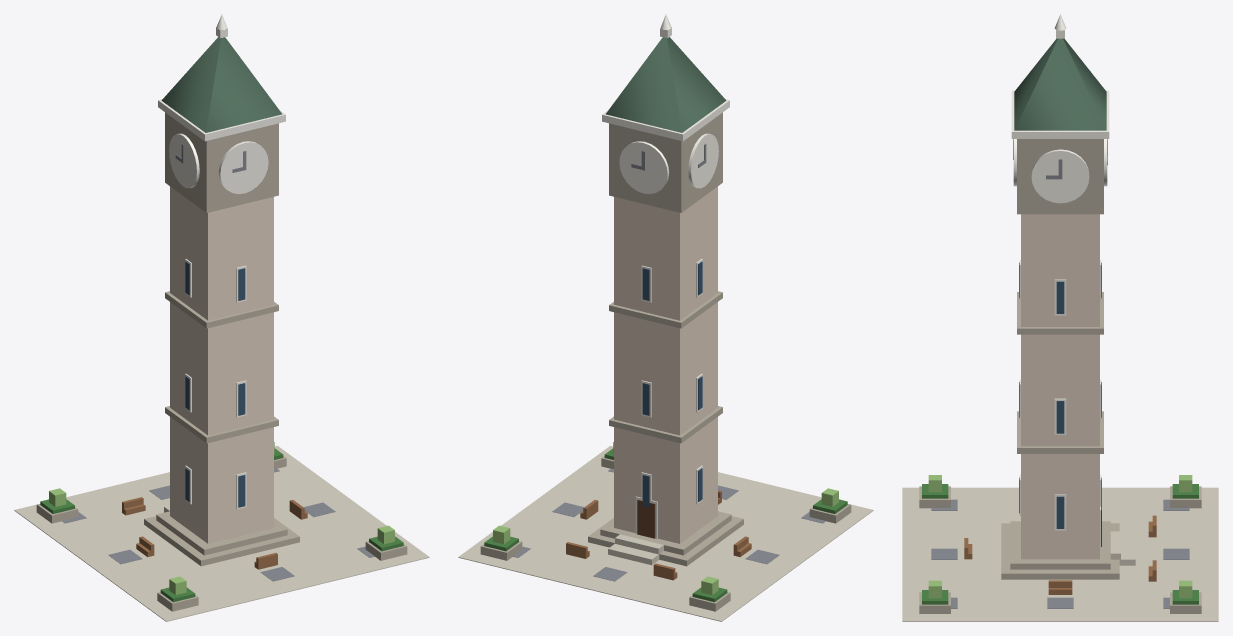
The model's file is clocktower.glb.
3 renders of one model, left to right at view 1: azimuth 30°, elevation 25°; view 2: azimuth 150°, elevation 25°; view 3: azimuth 270°, elevation 25°, orthographic. The views are drawn at different scales.
Visible parts, largest first — view 1: tower, plaza, spire, clock_stage, plinth (×2), clock_face (×2), string_course (×2), cornice; view 2: tower, plaza, spire, clock_stage, clock_face (×2), plinth (×2), string_course (×2), cornice, door, step; view 3: plaza, tower, spire, clock_stage, plinth (×2), clock_face, string_course (×2), cornice, step.
Part boxes in pixels (x1=…): tower: x1=170, y1=186, x2=273, y2=543; plaza: x1=14, y1=446, x2=429, y2=621; spire: x1=161, y1=37, x2=281, y2=132; clock_stage: x1=165, y1=112, x2=278, y2=212; plinth (×2): x1=144, y1=511, x2=299, y2=566; clock_face (×2): x1=169, y1=133, x2=268, y2=194; string_course (×2): x1=165, y1=291, x2=278, y2=443; cornice: x1=158, y1=99, x2=285, y2=141; tower: x1=614, y1=186, x2=717, y2=543; plaza: x1=458, y1=446, x2=873, y2=621; spire: x1=606, y1=37, x2=726, y2=132; clock_stage: x1=609, y1=112, x2=722, y2=212; clock_face (×2): x1=619, y1=133, x2=718, y2=194; plinth (×2): x1=588, y1=511, x2=743, y2=566; string_course (×2): x1=609, y1=291, x2=722, y2=443; cornice: x1=602, y1=99, x2=729, y2=141; door: x1=637, y1=500, x2=655, y2=538; step: x1=608, y1=544, x2=659, y2=565; plaza: x1=902, y1=487, x2=1218, y2=621; tower: x1=1021, y1=214, x2=1099, y2=559; spire: x1=1014, y1=38, x2=1106, y2=130; clock_stage: x1=1017, y1=139, x2=1103, y2=214; plinth (×2): x1=1001, y1=521, x2=1119, y2=579; clock_face: x1=1031, y1=149, x2=1089, y2=203; string_course (×2): x1=1017, y1=292, x2=1103, y2=453; cornice: x1=1011, y1=90, x2=1109, y2=138; step: x1=1119, y1=537, x2=1135, y2=565.
Size of the model in its own units: 24 by 45.3 by 24.
